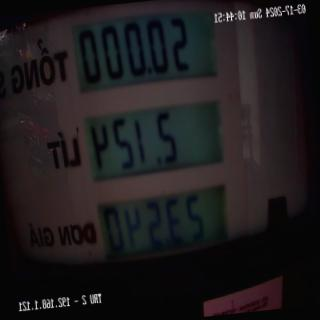screen: (65, 0, 242, 288)
